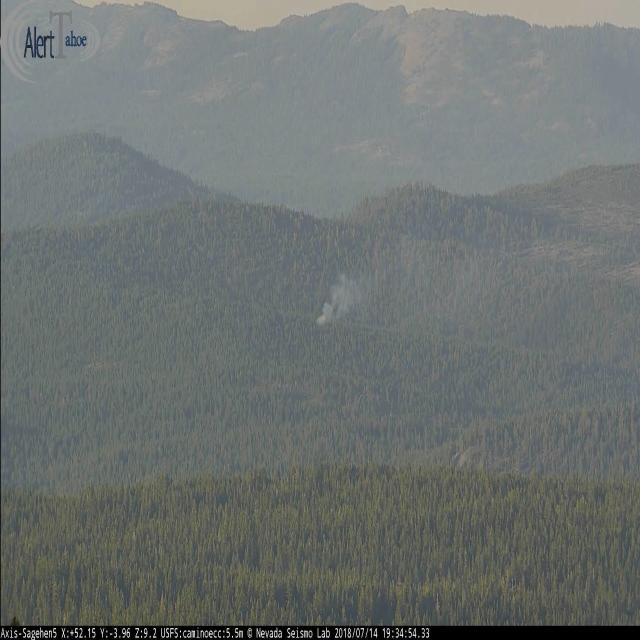smoke: (317, 274, 365, 324)
